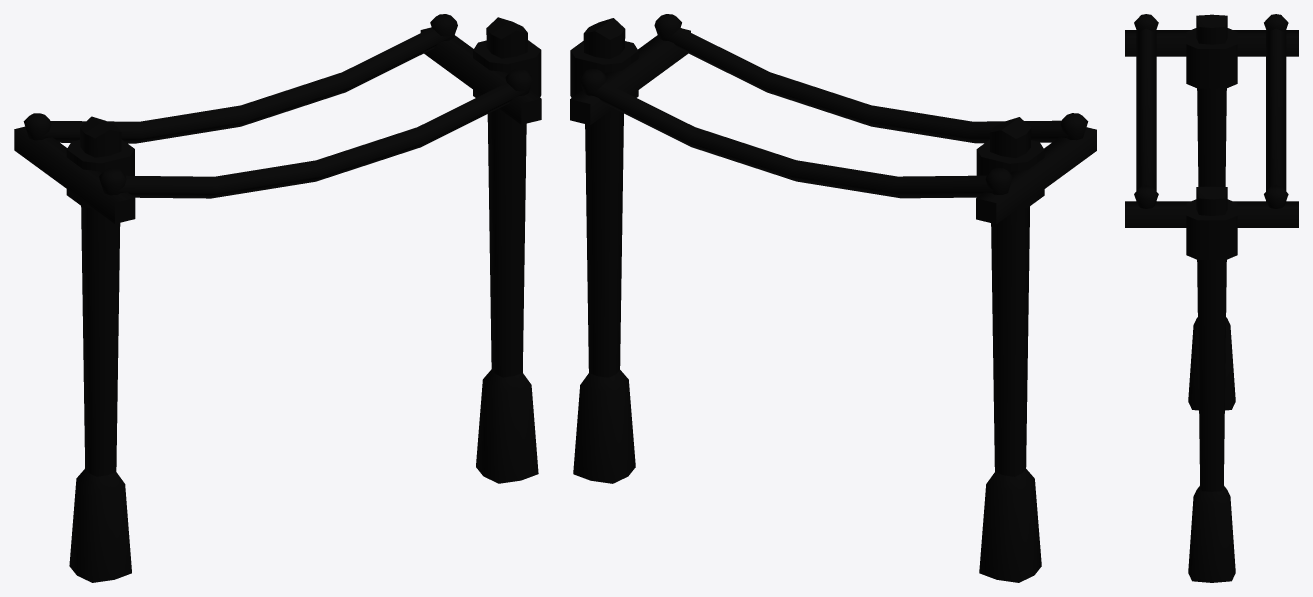
File: electricity-pole.glb
3 renders of one model, left to right at view 1: azimuth 30°, elevation 25°; view 2: azimuth 150°, elevation 25°; view 3: azimuth 270°, elevation 25°, orthographic. The views are drawn at different scales.
Parts seen in each view (by area): view 1: electricity-pole; view 2: electricity-pole; view 3: electricity-pole.
Part boxes in pixels (box(x1,y1,x2,y2)): electricity-pole: box(14, 14, 541, 582); electricity-pole: box(570, 14, 1096, 582); electricity-pole: box(1125, 14, 1298, 582).
Size of the model in its own units: 0.5791 by 0.525 by 0.2142.
1 material, 1 textured.
